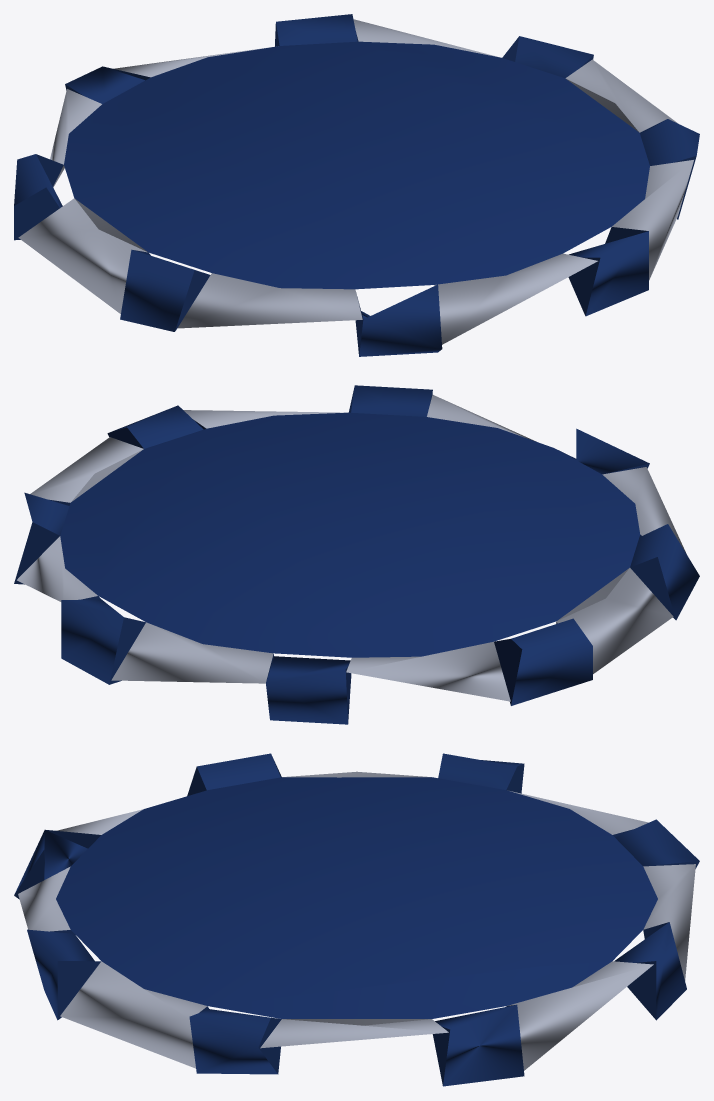
The model's file is trampoline.lod1.glb.
3 renders of one model, top to bottom at view 1: azimuth 30°, elevation 25°; view 2: azimuth 150°, elevation 25°; view 3: azimuth 270°, elevation 25°, orthographic. The views are drawn at different scales.
Parts seen in each view (by area): view 1: 0; view 2: 0; view 3: 0.
Part boxes in pixels (x1=…): 0: x1=14, y1=14, x2=699, y2=356; 0: x1=14, y1=385, x2=699, y2=724; 0: x1=14, y1=753, x2=699, y2=1086.
Size of the model in its own units: 3.08 by 0.3407 by 3.08.
1 material, 1 textured.
